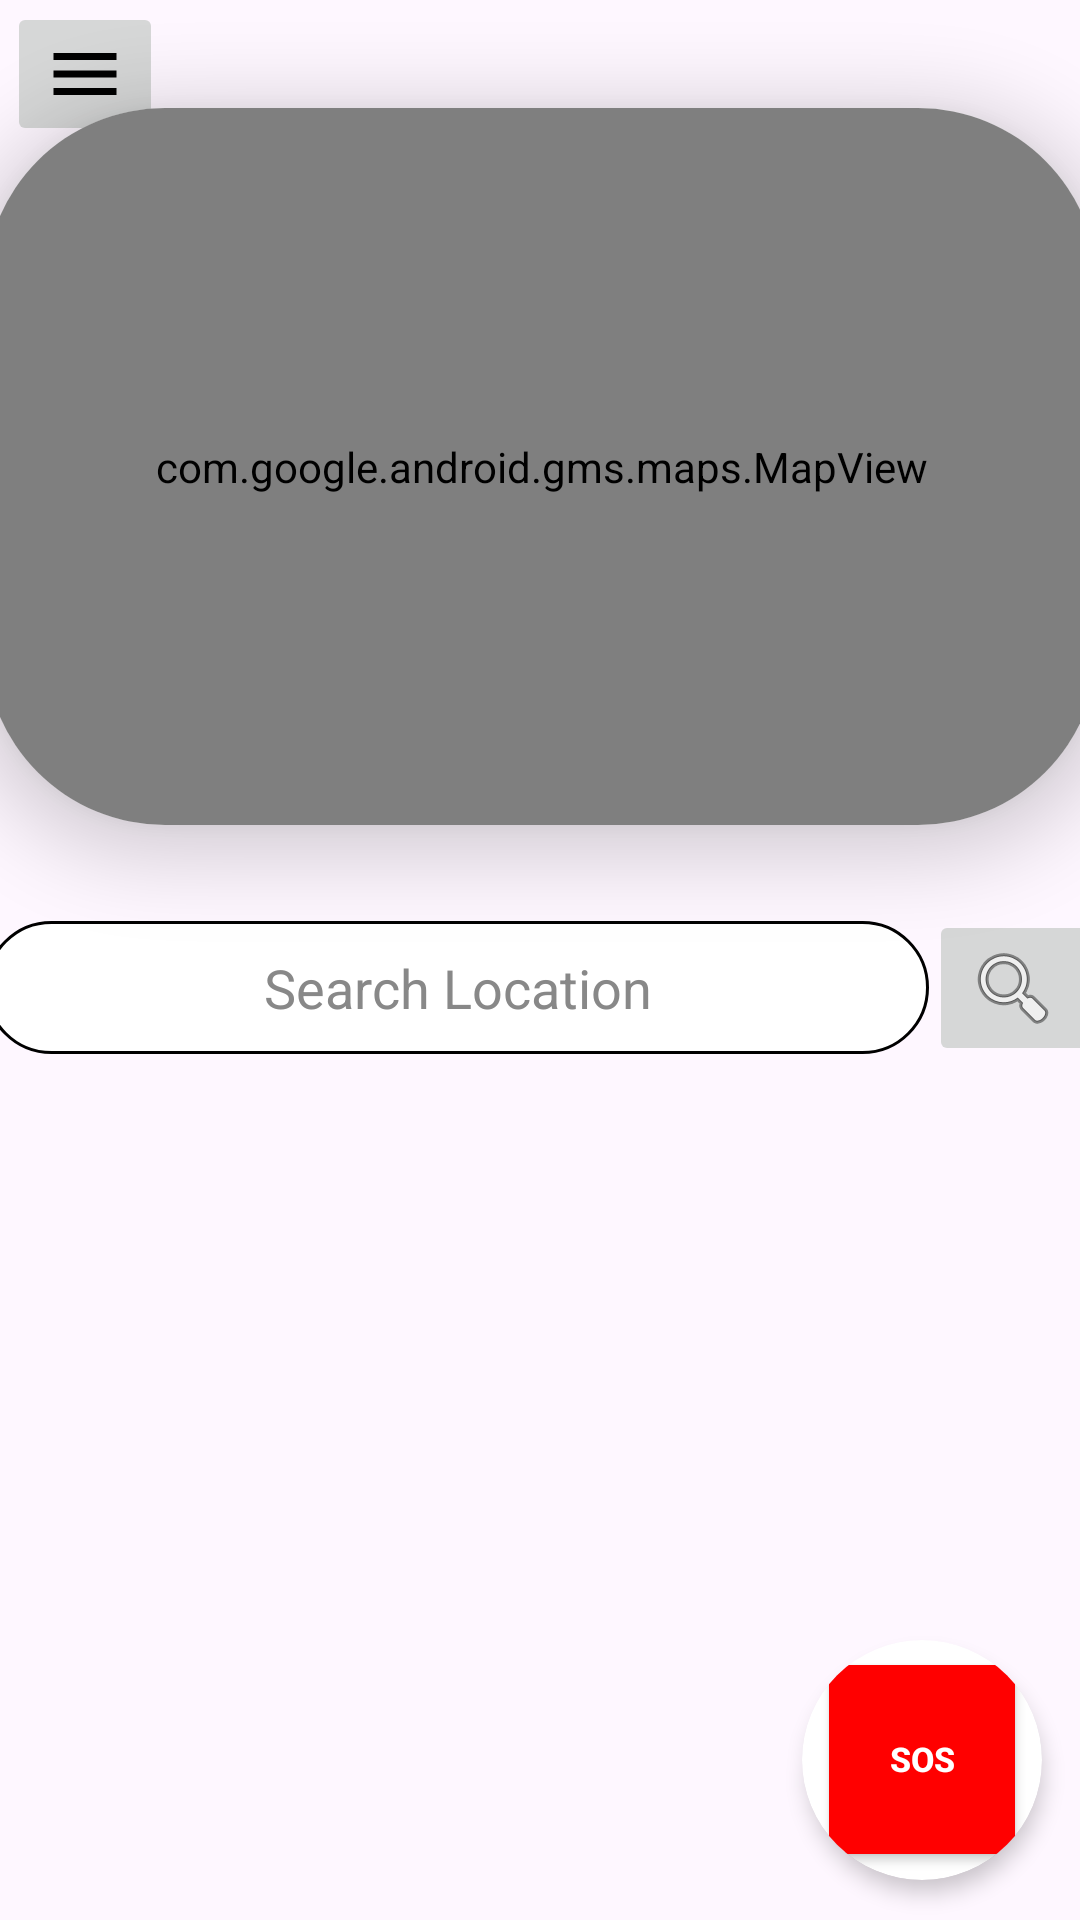

Where to tap for icons on this 1080 x 1920 app screen, as [x,y]:
menu: [91,83]
